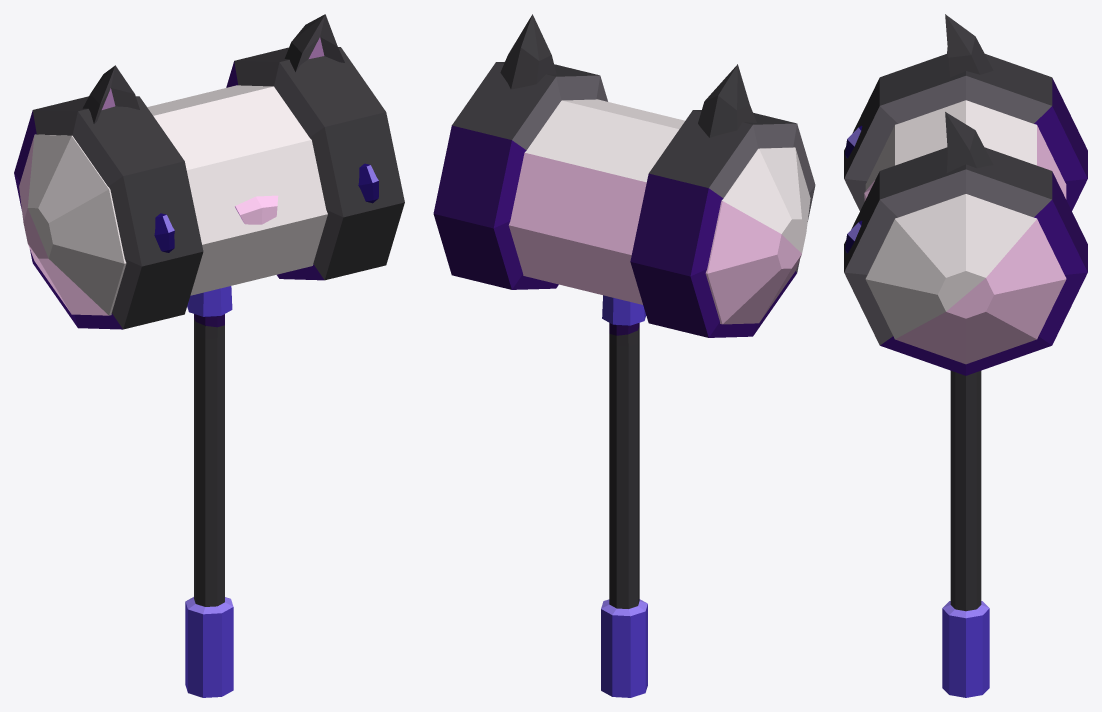
Rendered from 3D_wpn_hammer-cat.fbx.
3 renders of one model, left to right at view 1: azimuth 30°, elevation 25°; view 2: azimuth 150°, elevation 25°; view 3: azimuth 270°, elevation 25°, orthographic. The views are drawn at different scales.
Visible parts, largest first — view 1: GEO_hammer-cat; view 2: GEO_hammer-cat; view 3: GEO_hammer-cat.
Boxes of the visible parts, box(x1,y1,x2,y2) form: GEO_hammer-cat: box(14, 14, 404, 697); GEO_hammer-cat: box(433, 14, 815, 697); GEO_hammer-cat: box(844, 14, 1087, 697).
Size of the model in its own units: 0.7061 by 0.4568 by 1.29.
